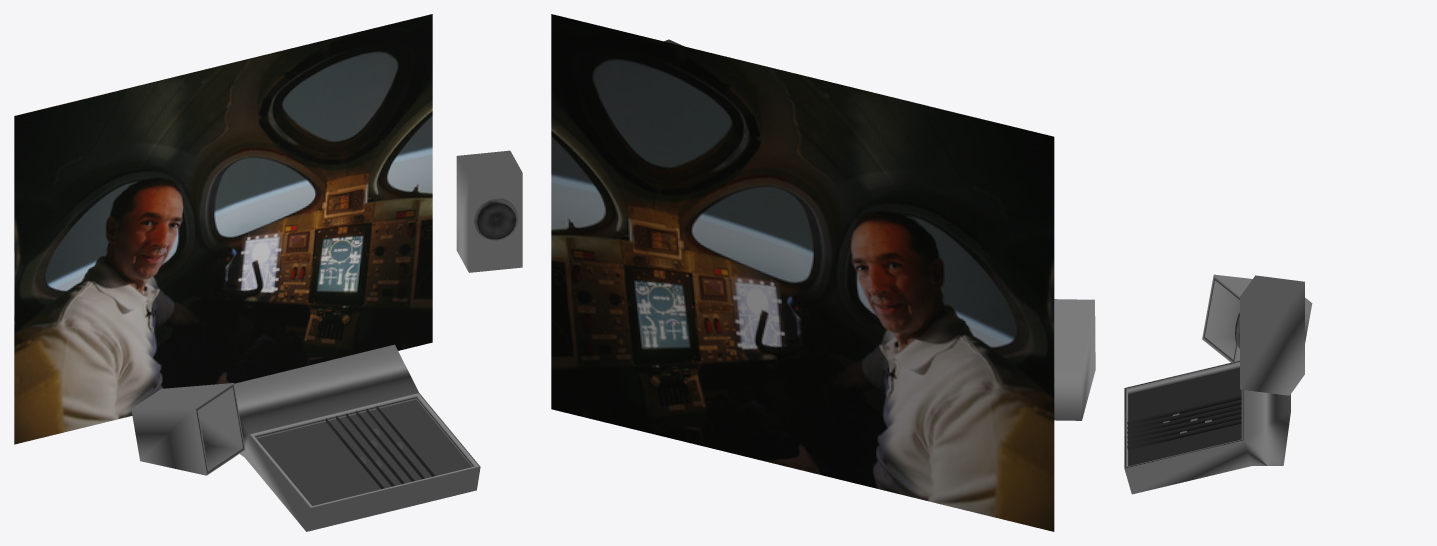
The model's file is control room test.obj.
3 views of the same model, side by side, from view 1: azimuth 30°, elevation 25°; view 2: azimuth 150°, elevation 25°; view 3: azimuth 270°, elevation 25° (orthographic). The views are drawn at different scales.
Visible parts, largest first — view 1: pPlane1, music_mis_control, monitor, box, speaker; view 2: pPlane1, monitor; view 3: music_mis_control, box, monitor, pasted__pasted__pasted__pCube5, pCube3, pasted__pCube3, pasted__pCube4, pasted__pasted__pCube5, pasted__pCube5.
Part boxes in pixels (x1=…): pPlane1: x1=14, y1=14, x2=432, y2=444; music_mis_control: x1=234, y1=344, x2=480, y2=531; monitor: x1=131, y1=383, x2=245, y2=475; box: x1=456, y1=150, x2=522, y2=272; speaker: x1=477, y1=203, x2=516, y2=239; pPlane1: x1=551, y1=14, x2=1054, y2=531; monitor: x1=1054, y1=299, x2=1095, y2=420; music_mis_control: x1=1124, y1=360, x2=1290, y2=494; box: x1=1240, y1=275, x2=1304, y2=395; monitor: x1=1202, y1=274, x2=1312, y2=362; pasted__pasted__pasted__pCube5: x1=1127, y1=419, x2=1241, y2=450; pCube3: x1=1127, y1=395, x2=1241, y2=426; pasted__pCube3: x1=1127, y1=400, x2=1241, y2=431; pasted__pCube4: x1=1127, y1=405, x2=1241, y2=435; pasted__pasted__pCube5: x1=1127, y1=414, x2=1241, y2=445; pasted__pCube5: x1=1127, y1=409, x2=1241, y2=440.
Size of the model in its own units: 31.1 by 23.73 by 19.31.
Materials: 4 (1 with a texture image).
